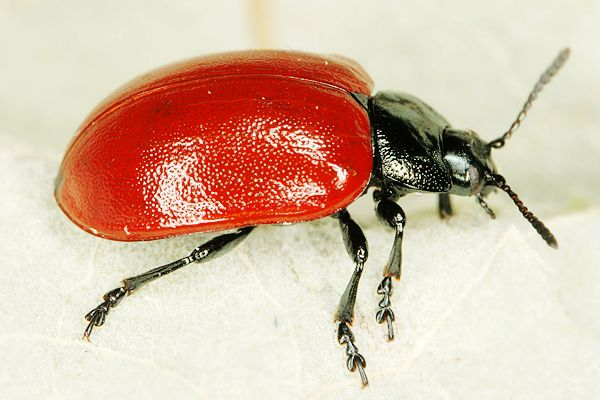Chrysomela_populi: (48, 25, 586, 390)
